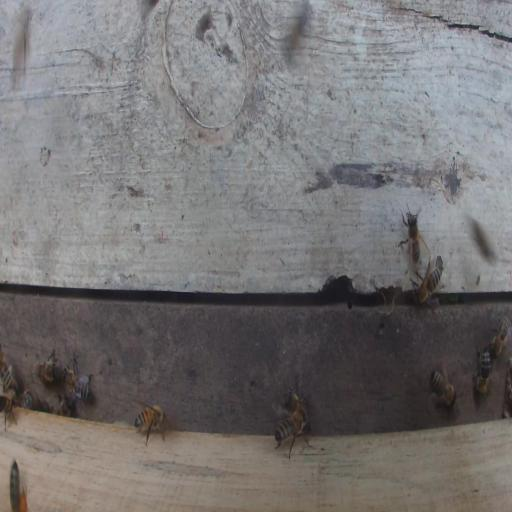nonpollenbee: (409, 254, 443, 305), (399, 205, 426, 267), (133, 404, 167, 447), (281, 386, 310, 429), (273, 409, 304, 448), (63, 359, 91, 402), (430, 369, 456, 409), (489, 314, 509, 358), (36, 349, 61, 384), (474, 347, 491, 395), (1, 344, 18, 392), (0, 395, 18, 432), (14, 390, 34, 409), (56, 394, 72, 416)
pollenbee: (7, 454, 30, 512)
